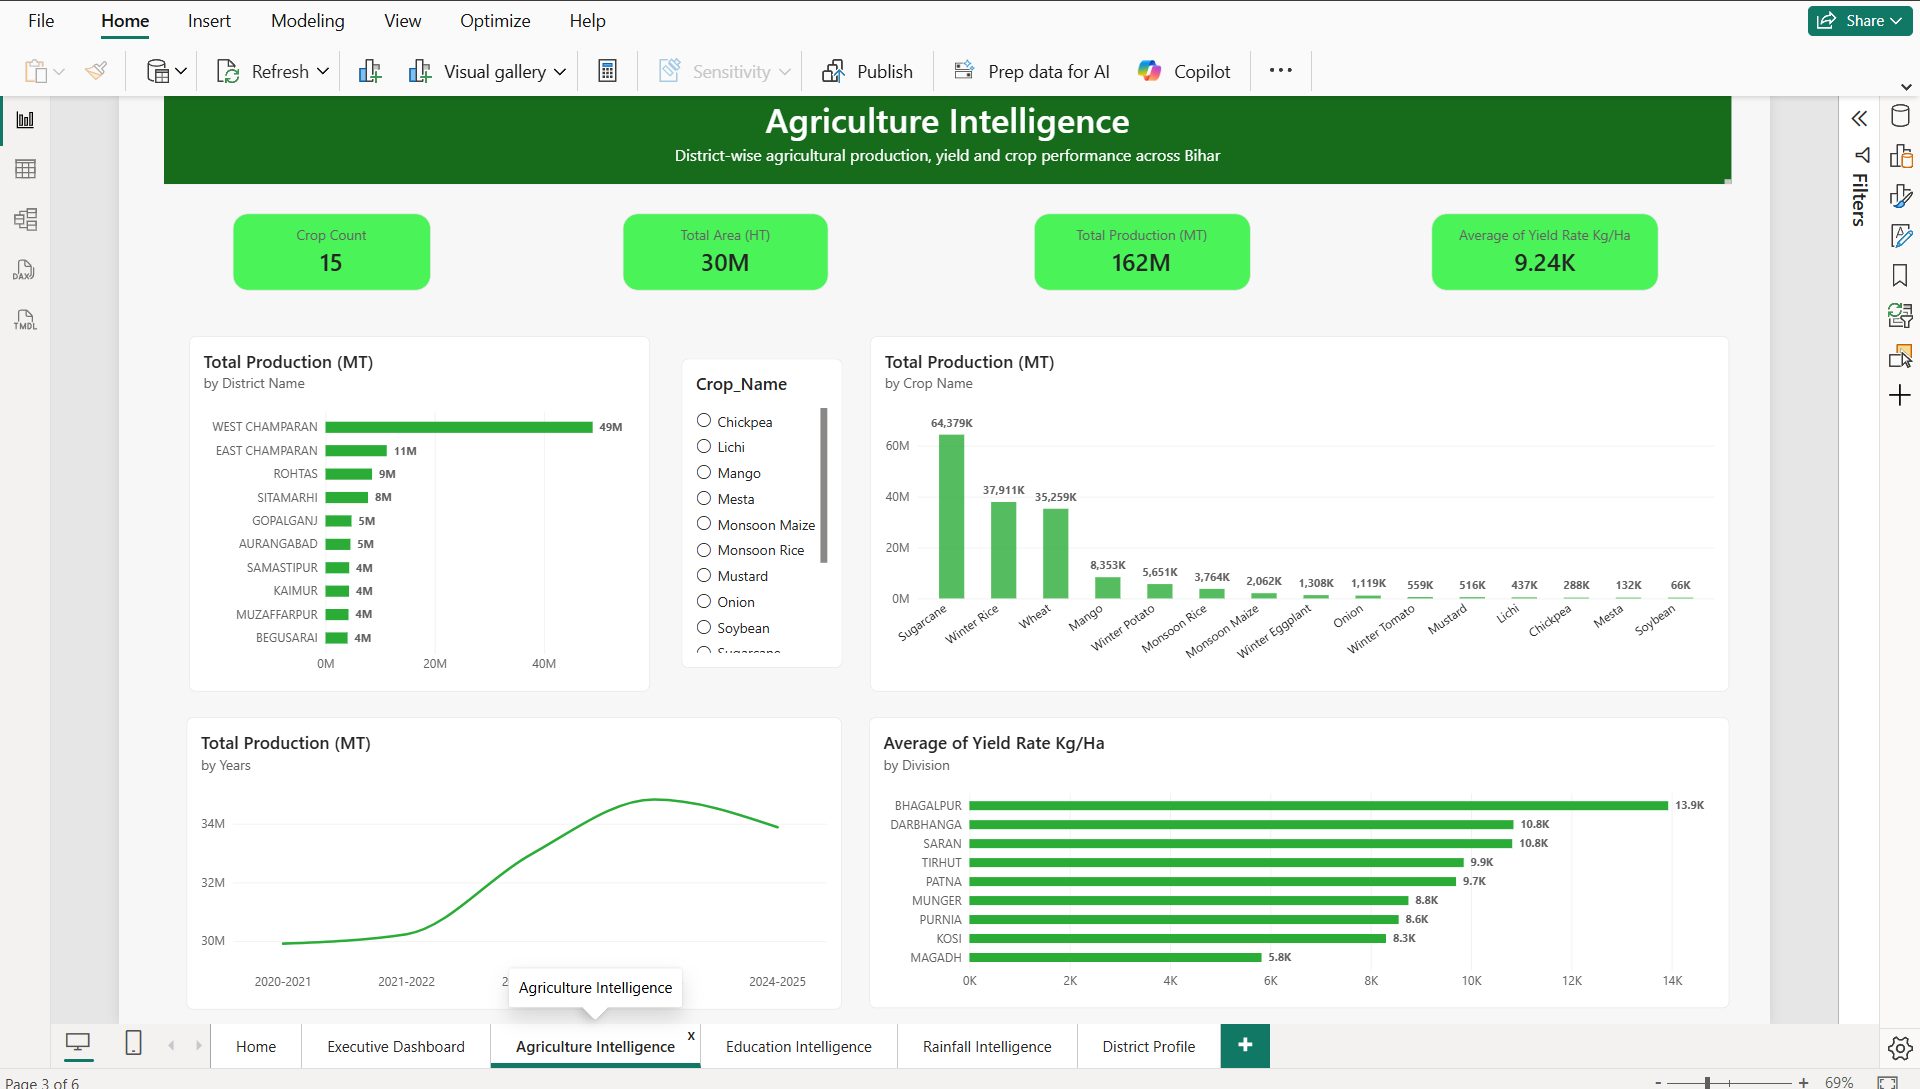

What the dashboard file says about the page in this screenshot:
{"tool":"powerbi","page":{"name":"Agriculture Intelligence","canvas":[1920,1080],"ordinal":2},"visuals":[{"type":"textbox","title":"Agriculture Intelligence","box":[52.1,0,1822.9,102.5],"z":0},{"type":"cardVisual","fields":{"Data":["All_Measures.Total_production_MT"]},"box":[1064.3,136.6,251.7,89.9],"z":1000},{"type":"cardVisual","fields":{"Data":["Avg(Fact_Agriculture_New.Yield_Rate_Kg/HT)"]},"box":[1526.3,136.6,264.3,89.9],"z":2000},{"type":"cardVisual","fields":{"Data":["Sum(Fact_Agriculture_New.Area_HT)"]},"box":[586.1,136.6,239.1,89.9],"z":3000},{"type":"cardVisual","fields":{"Data":["All_Measures.Crop_Count"]},"box":[133,136.6,230.1,89.9],"z":4000},{"type":"clusteredBarChart","fields":{"Category":["Dim_District.District_Name"],"Y":["All_Measures.Total_production_MT"]},"box":[80.9,278.7,535.7,413.5],"z":5000},{"type":"clusteredColumnChart","fields":{"Category":["Fact_Agriculture_New.Crop_Name"],"Y":["All_Measures.Total_production_MT"]},"box":[873.7,278.7,999.6,413.5],"z":6000},{"type":"listSlicer","fields":{"Values":["Fact_Agriculture_New.Crop_Name"]},"box":[654.4,305.6,187.1,360.1],"z":7000},{"type":"lineChart","fields":{"Category":["Fact_Agriculture_New.Years"],"Y":["All_Measures.Total_production_MT"]},"box":[79.1,722.7,762.2,339.8],"z":8000},{"type":"clusteredBarChart","fields":{"Category":["Dim_District.Division"],"Y":["Avg(Fact_Agriculture_New.Yield_Rate_Kg/HT)"]},"box":[873,723.3,1000.8,338.3],"z":9000}]}

Visuals, with their boxes on the page's 1920x1080 design canvas (x1, y1, x2, y2). These are canvas units, not pixel positions in the 1920x1089 screenshot, which may show the page scaled, cropped or inside an application window:
"Agriculture Intelligence" textbox: <box>52,0,1875,102</box>
cardVisual - All_Measures.Total_production_MT: <box>1064,137,1316,226</box>
cardVisual - Avg(Fact_Agriculture_New.Yield_Rate_Kg/HT): <box>1526,137,1791,226</box>
cardVisual - Sum(Fact_Agriculture_New.Area_HT): <box>586,137,825,226</box>
cardVisual - All_Measures.Crop_Count: <box>133,137,363,226</box>
clusteredBarChart - Dim_District.District_Name x All_Measures.Total_production_MT: <box>81,279,617,692</box>
clusteredColumnChart - Fact_Agriculture_New.Crop_Name x All_Measures.Total_production_MT: <box>874,279,1873,692</box>
listSlicer - Fact_Agriculture_New.Crop_Name: <box>654,306,842,666</box>
lineChart - Fact_Agriculture_New.Years x All_Measures.Total_production_MT: <box>79,723,841,1062</box>
clusteredBarChart - Dim_District.Division x Avg(Fact_Agriculture_New.Yield_Rate_Kg/HT): <box>873,723,1874,1062</box>
